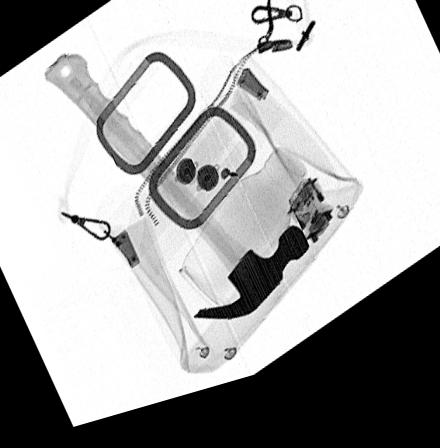Hammer: (42, 56, 310, 332)
